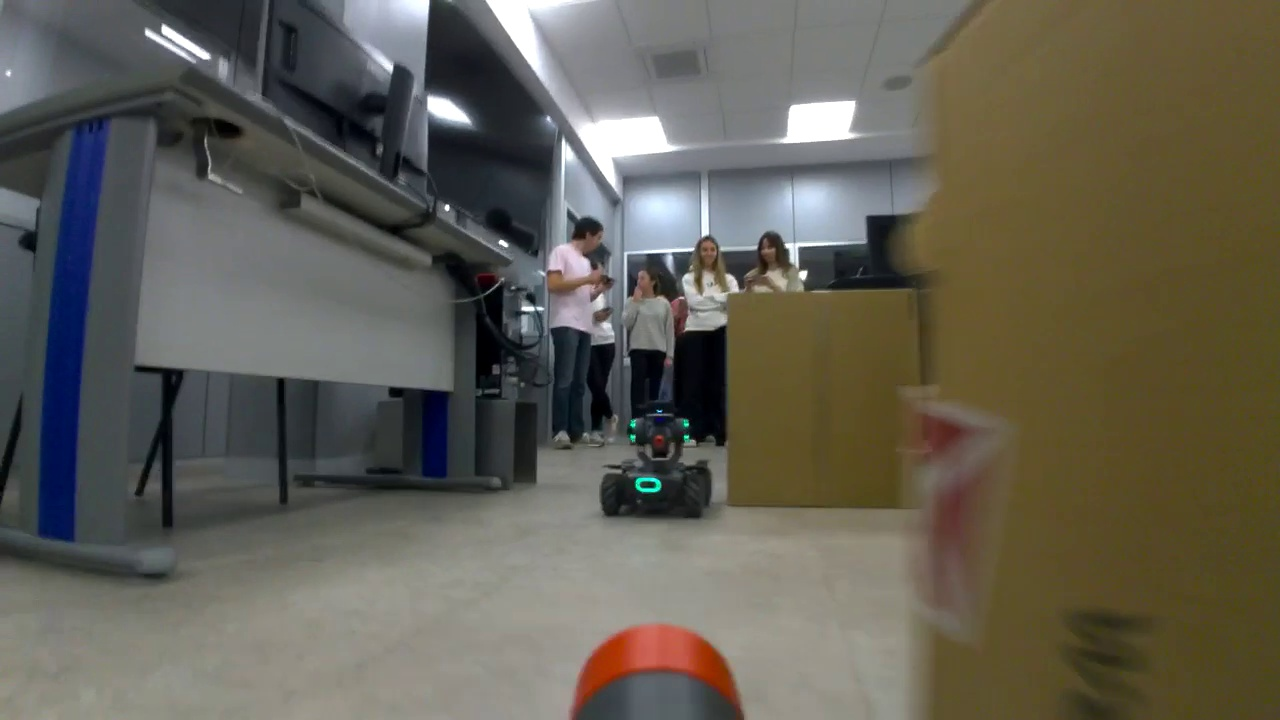robot: (600, 401, 713, 517)
